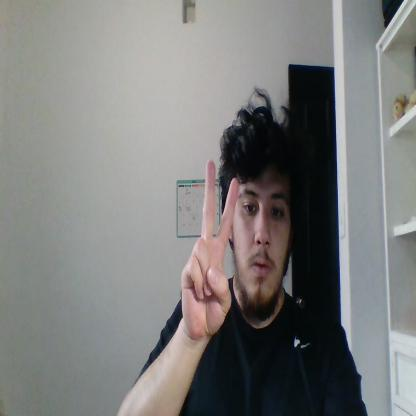V: (182, 160, 238, 339)
